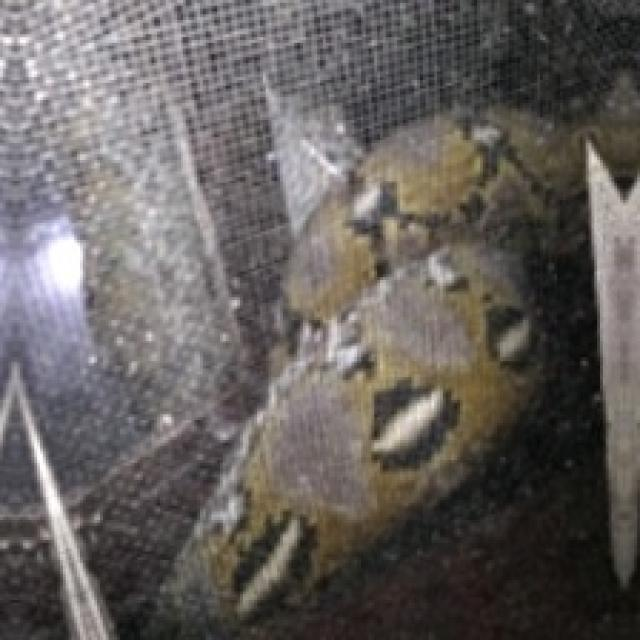reticulated python: (171, 100, 583, 620)
